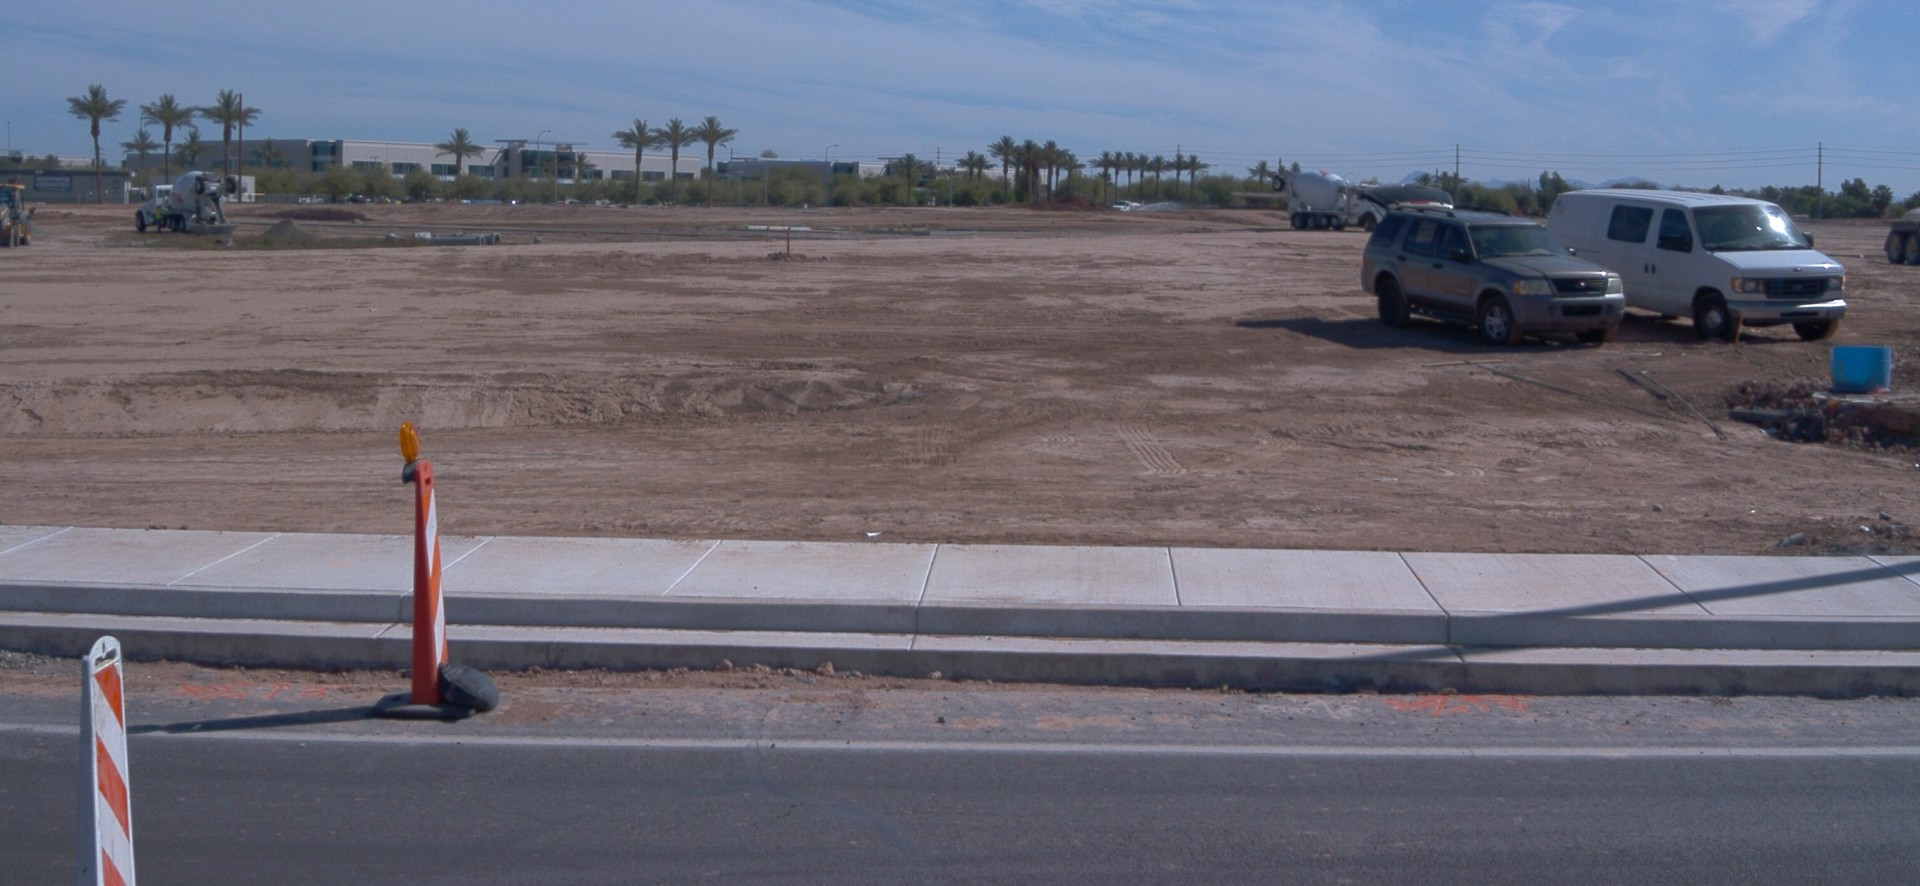TYPE_PEDESTRIAN: (152, 201, 165, 233)
TYPE_VEHICLE: (1537, 183, 1849, 348), (1344, 182, 1627, 350), (1269, 164, 1399, 230), (134, 164, 239, 230), (0, 180, 39, 247), (1881, 201, 1920, 267), (1113, 197, 1141, 212)
